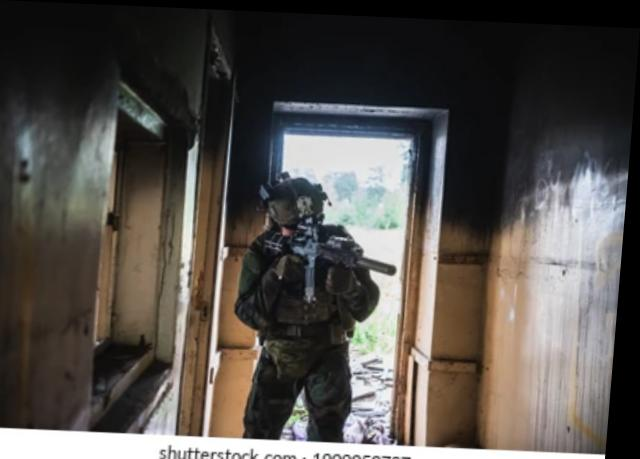other: (233, 173, 388, 425)
